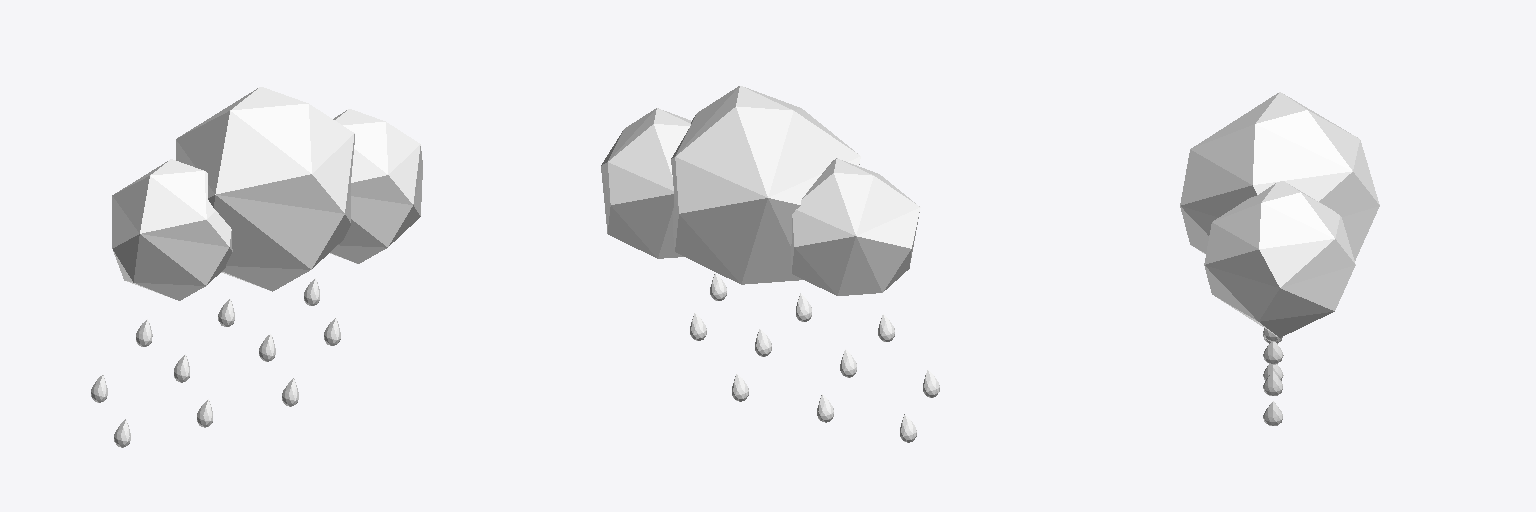
File: rain_cloud.obj
3 renders of one model, left to right at view 1: azimuth 30°, elevation 25°; view 2: azimuth 150°, elevation 25°; view 3: azimuth 270°, elevation 25°, orthographic.
Visible parts, largest first — view 1: Icosphere.007_Icosphere.009; view 2: Icosphere.007_Icosphere.009; view 3: Icosphere.007_Icosphere.009.
Part boxes in pixels (bbox=[...]): Icosphere.007_Icosphere.009: bbox=[91, 87, 422, 447]; Icosphere.007_Icosphere.009: bbox=[601, 86, 939, 442]; Icosphere.007_Icosphere.009: bbox=[1180, 92, 1379, 425].
Size of the model in its own units: 1.41 by 1.25 by 0.7318.